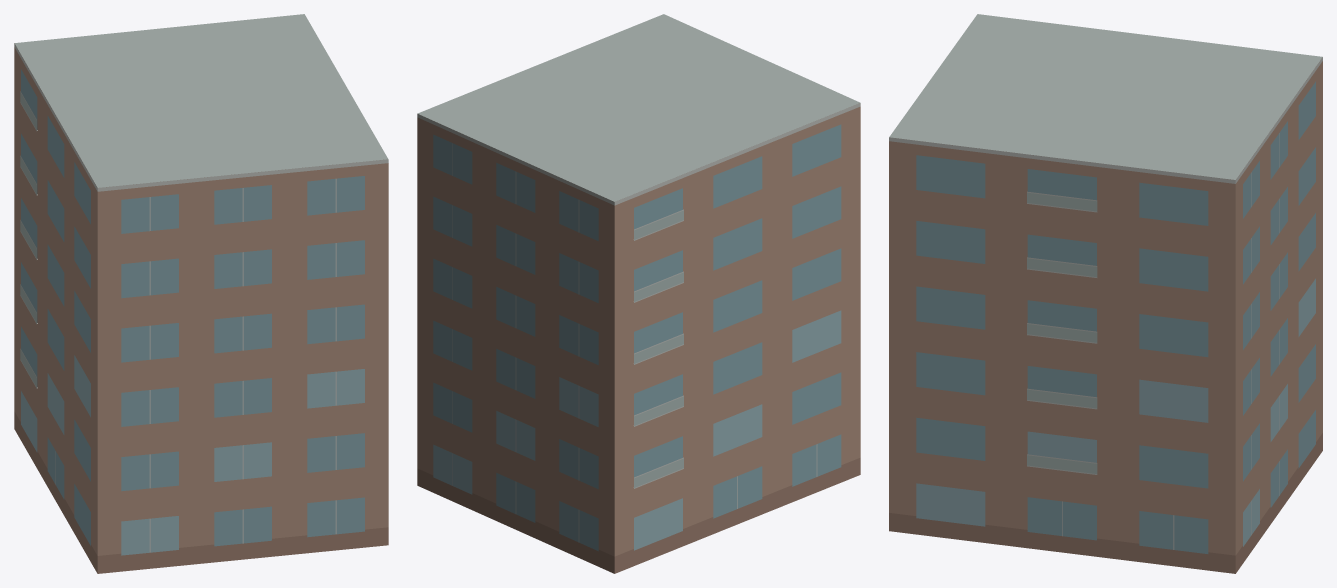
Rendered from survey-upis-32878771.glb.
The picture shows the model from 3 angles, left to right: view 1: azimuth 30°, elevation 25°; view 2: azimuth 150°, elevation 25°; view 3: azimuth 270°, elevation 25°; orthographic projection. The views are drawn at different scales.
Parts seen in each view (by area): view 1: survey-upis-32878771.tmp; view 2: survey-upis-32878771.tmp; view 3: survey-upis-32878771.tmp.
Boxes of the visible parts, x1,y1,x2,y2 form: survey-upis-32878771.tmp: [14, 14, 388, 573]; survey-upis-32878771.tmp: [417, 14, 860, 573]; survey-upis-32878771.tmp: [889, 14, 1322, 573].
Size of the model in its own units: 22.21 by 24.55 by 24.52.
